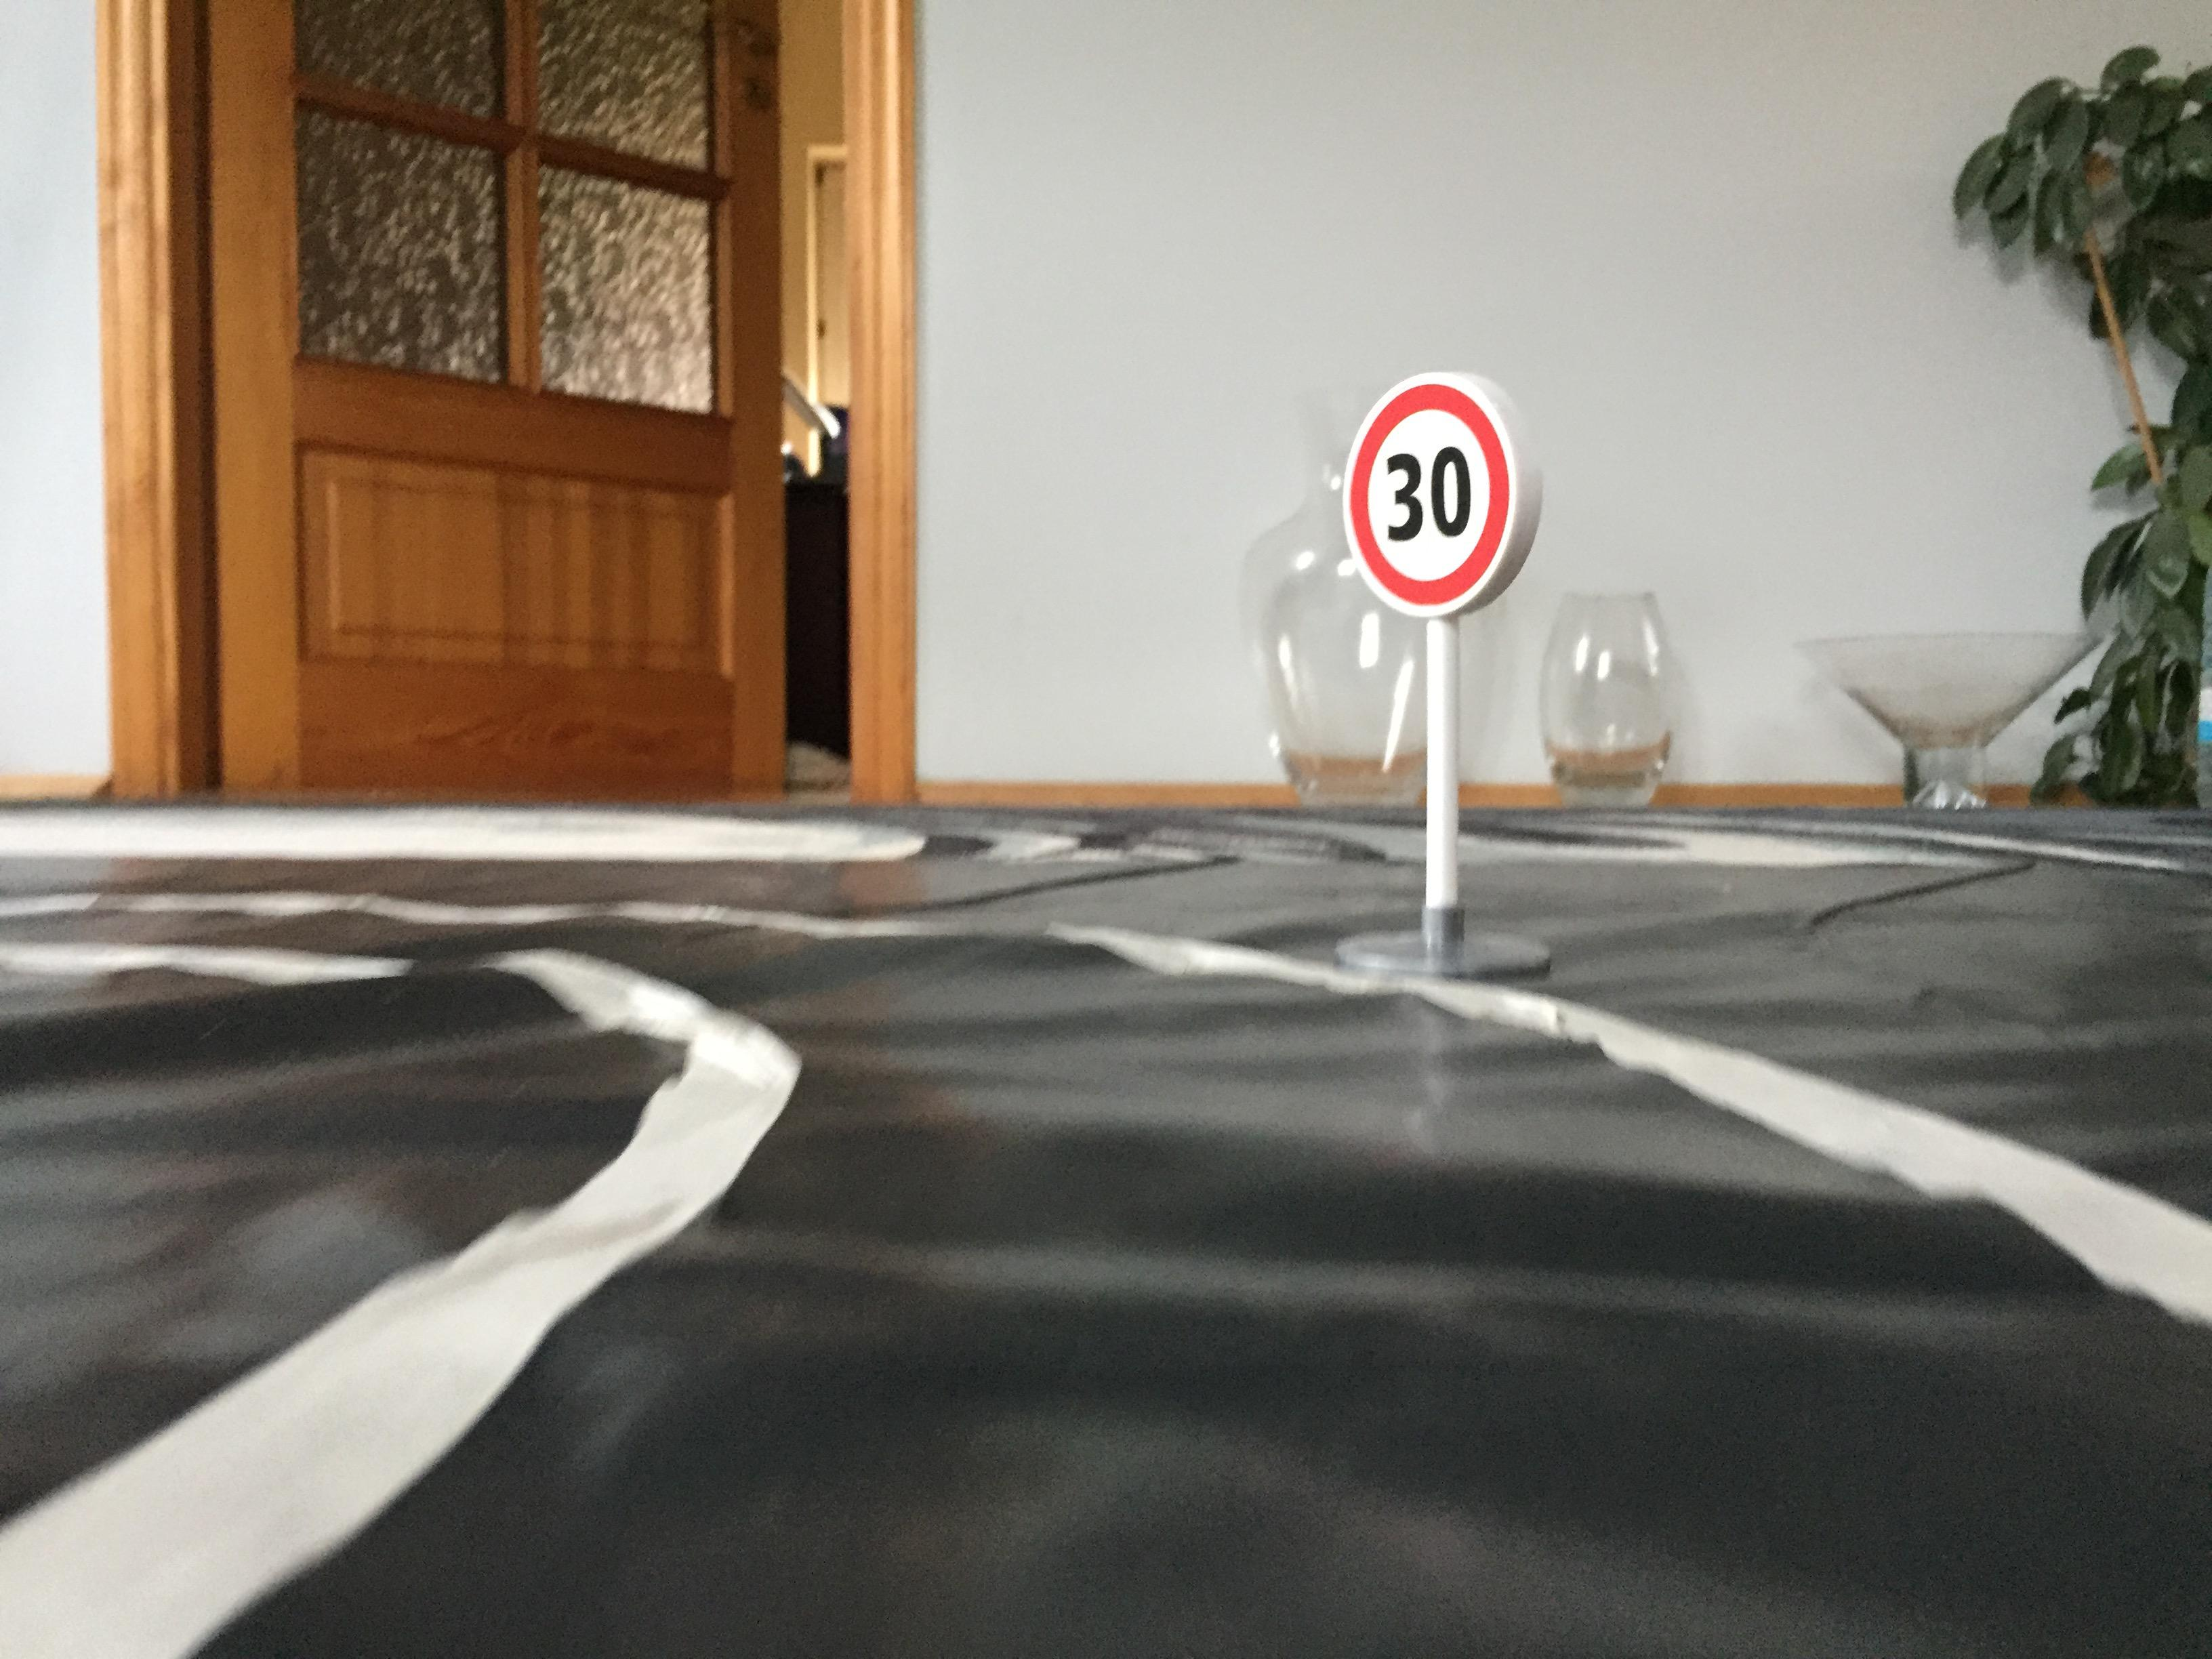speed: (1336, 357, 1547, 627)
